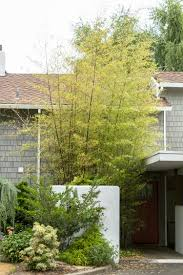bamboo: (31, 22, 151, 182), (118, 89, 143, 251)
